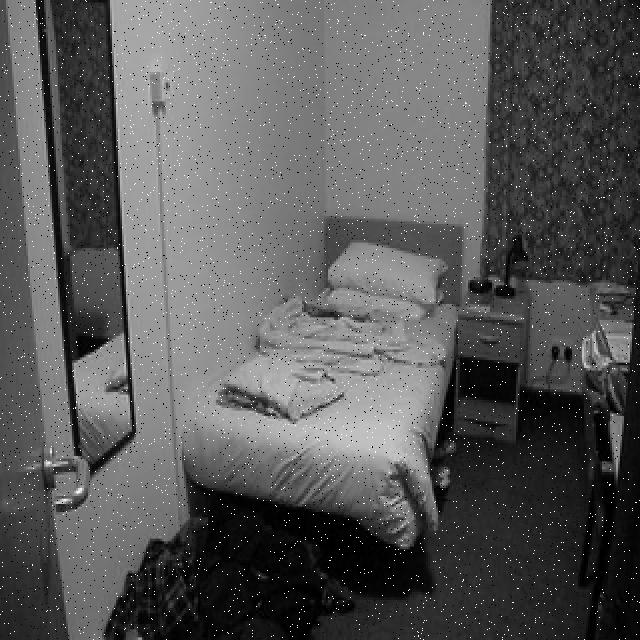bed: (191, 212, 467, 512)
